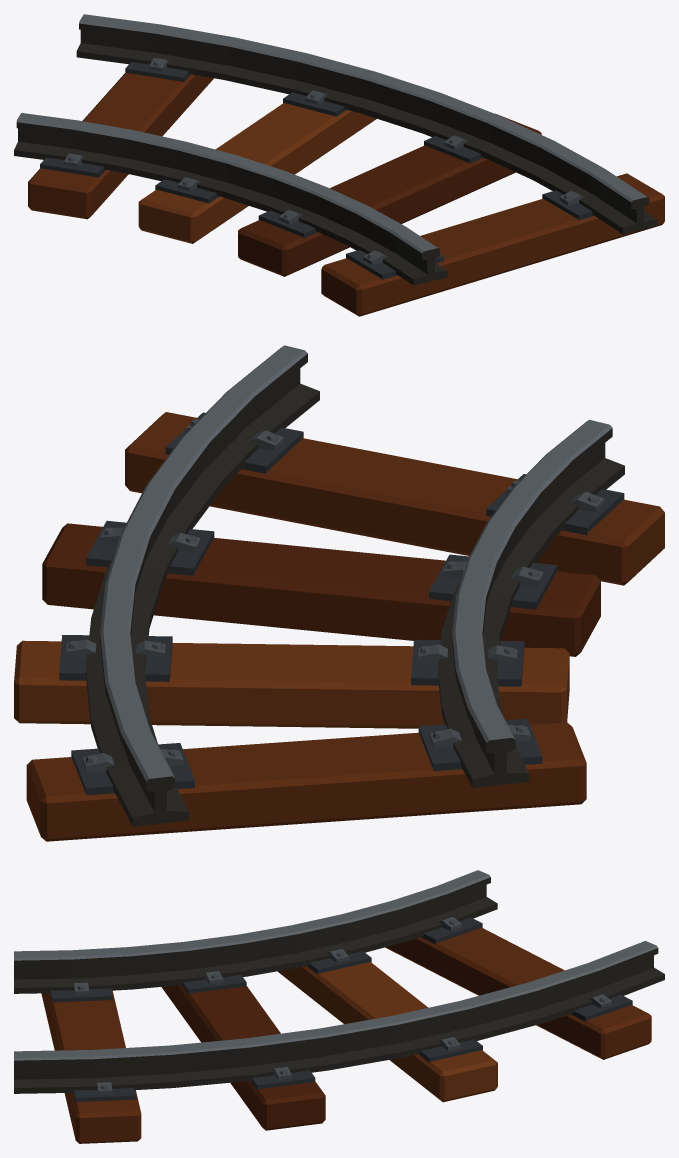
Rendered from Mine Rail Curve 45 Degrees.obj.
3 renders of one model, top to bottom at view 1: azimuth 30°, elevation 25°; view 2: azimuth 150°, elevation 25°; view 3: azimuth 270°, elevation 25°, orthographic. The views are drawn at different scales.
Visible parts, largest first — view 1: Mine_Rail_Curve_45_Degrees.Static; view 2: Mine_Rail_Curve_45_Degrees.Static; view 3: Mine_Rail_Curve_45_Degrees.Static.
Part boxes in pixels (bbox=[...]): Mine_Rail_Curve_45_Degrees.Static: bbox=[14, 14, 664, 316]; Mine_Rail_Curve_45_Degrees.Static: bbox=[14, 345, 664, 841]; Mine_Rail_Curve_45_Degrees.Static: bbox=[14, 870, 664, 1143].
Size of the model in its own units: 1.71 by 0.226 by 2.12.
